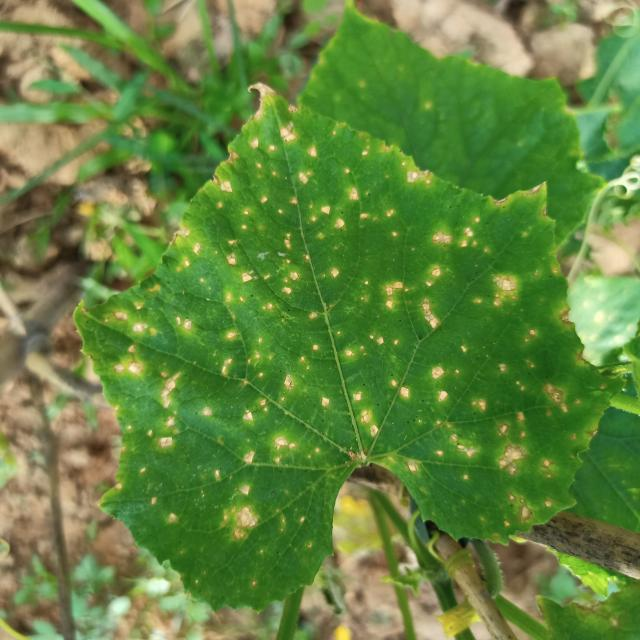disease_cucumber: (158, 104, 524, 334), (102, 270, 353, 566), (352, 271, 606, 531)
